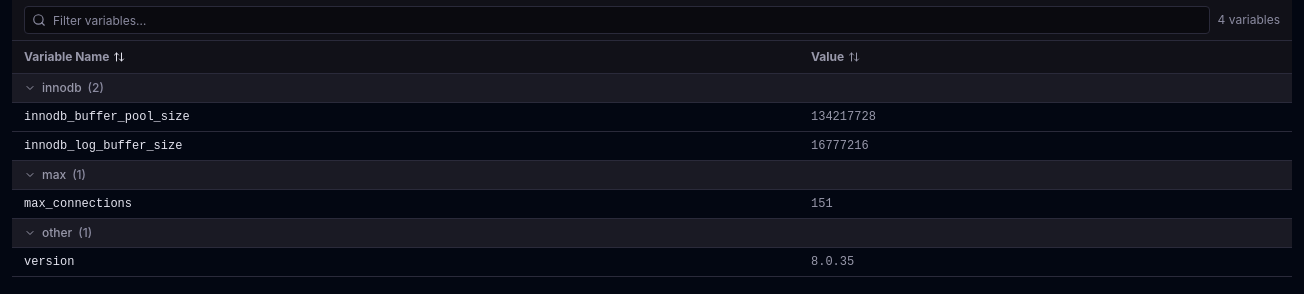
Test case: ServerVariablesTab filter and keyboard (#824) › says so when nothing matches the filter
This screenshot has width=1304, height=294.
Check: the button "max_connections" is shown, box [24,196,148,212]
Type "zzzz" into the field with placeholder "Filter variables…".
click(617, 20); type("zzzz")  # box [24,6,1210,34]
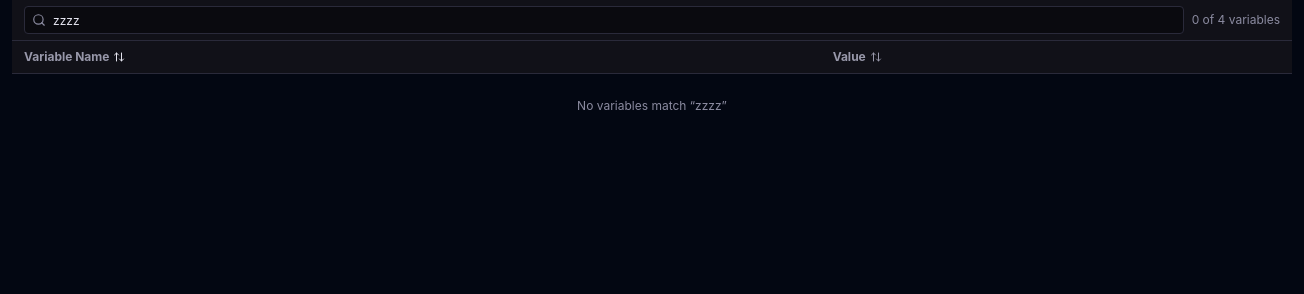
Check: the text "No variables match “zzzz”" is shown, box [12,74,1292,138]
Check: the text "0 of 4 variables" is shown, box [1192,12,1280,28]
